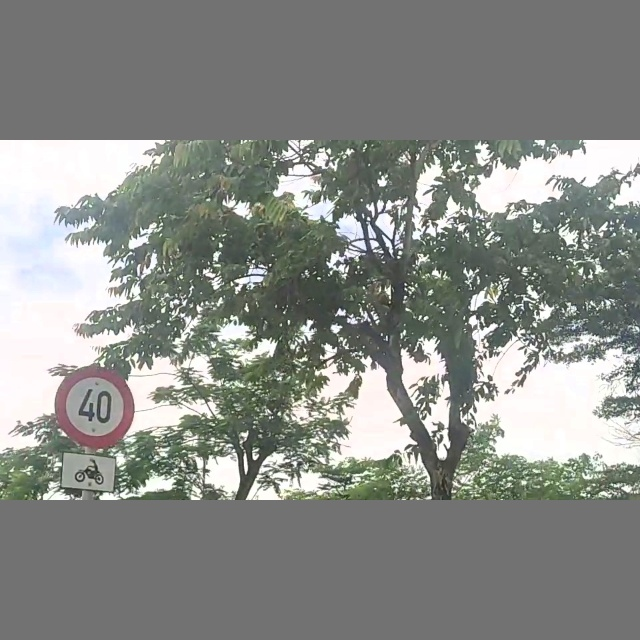P.127*40: (53, 365, 137, 451)
S.505a*Xe may: (57, 452, 119, 493)
